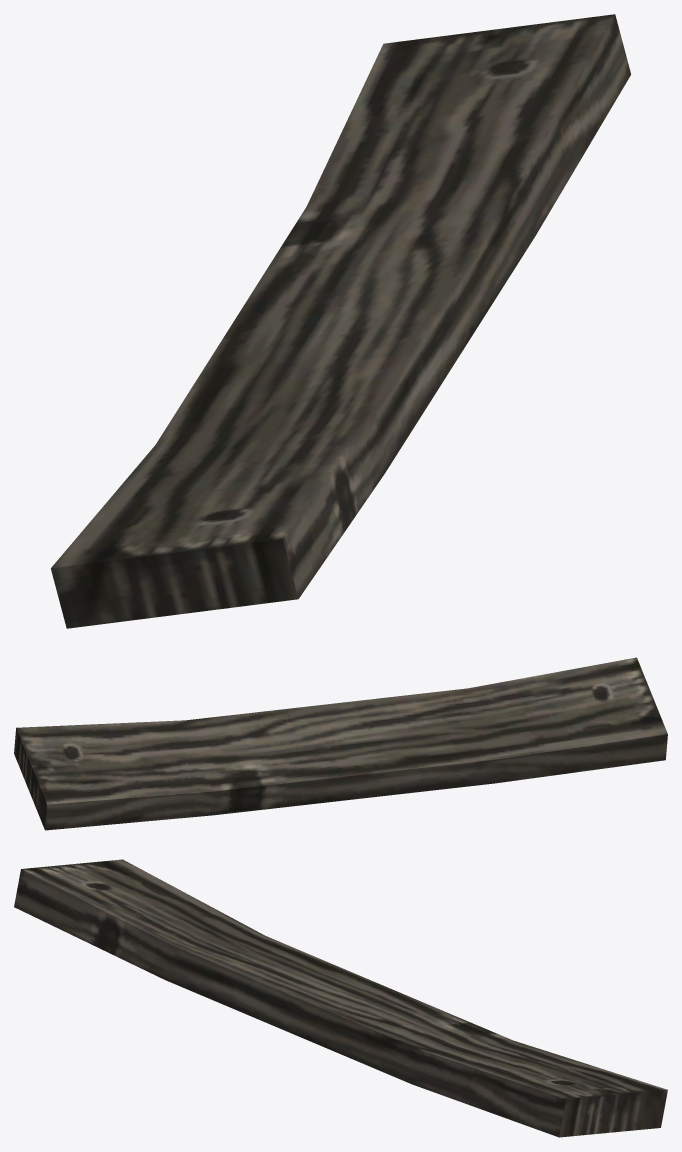
Rendered from ANIMATEDINSTANCES_BOARD_FALL1__BA.obj.
3 renders of one model, top to bottom at view 1: azimuth 30°, elevation 25°; view 2: azimuth 150°, elevation 25°; view 3: azimuth 270°, elevation 25°, orthographic. The views are drawn at different scales.
Visible parts, largest first — view 1: Board_Fall1__BA; view 2: Board_Fall1__BA; view 3: Board_Fall1__BA.
Boxes of the visible parts, bbox=[...] form: Board_Fall1__BA: bbox=[51, 14, 630, 628]; Board_Fall1__BA: bbox=[14, 657, 667, 830]; Board_Fall1__BA: bbox=[14, 859, 667, 1137].
Bounding box in the file's own units: 155 × 20.06 × 155.
